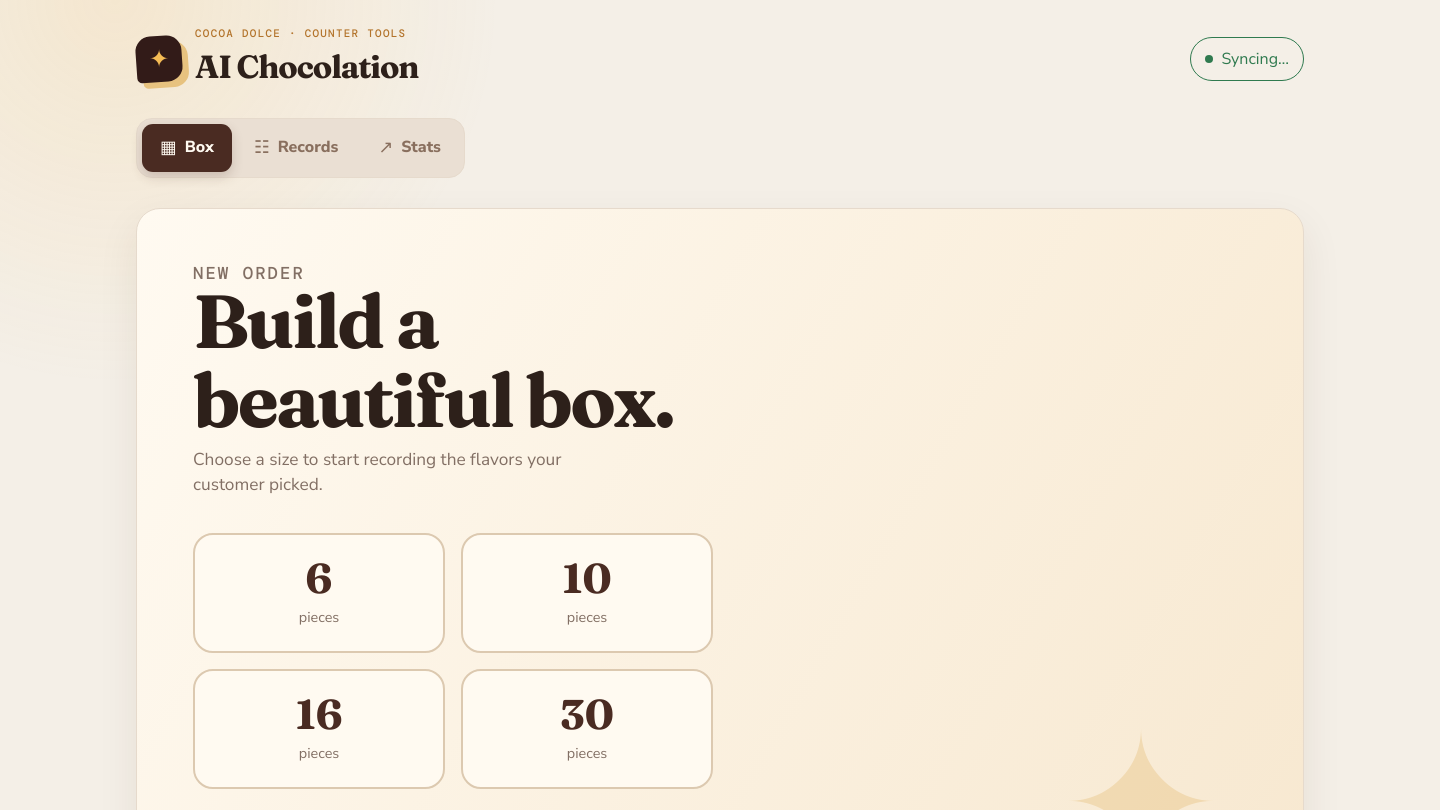
Scenario: App › switches to the records screen
Click the button "☷ Records".
click(296, 148)  # box [236,124,356,172]
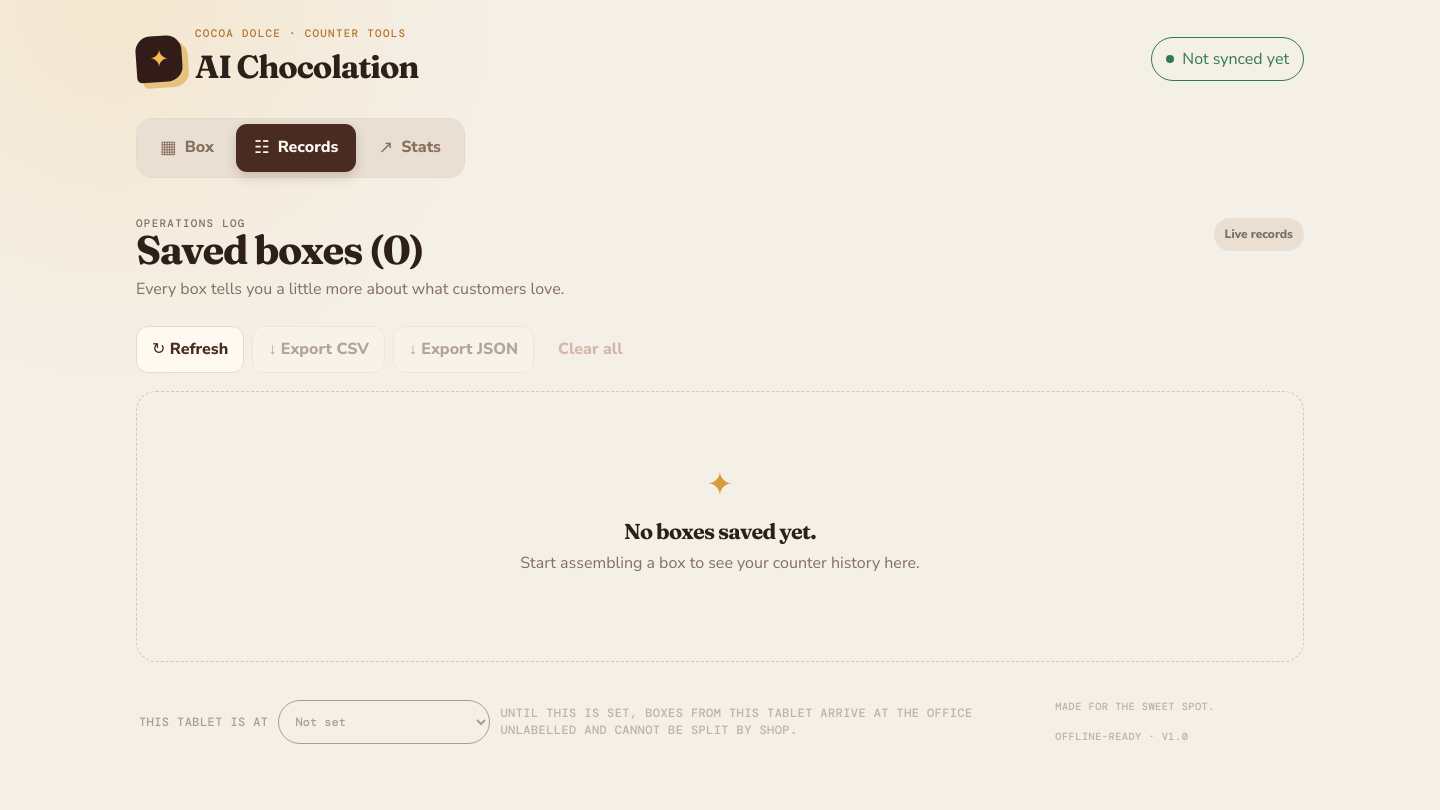
Expected: the heading "No boxes saved yet." is shown, [624,518,816,545]
